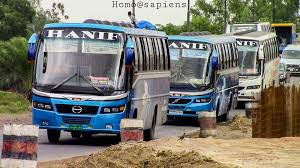bus: (26, 16, 169, 137), (163, 29, 244, 120), (234, 27, 282, 103)
car: (280, 42, 298, 75)
